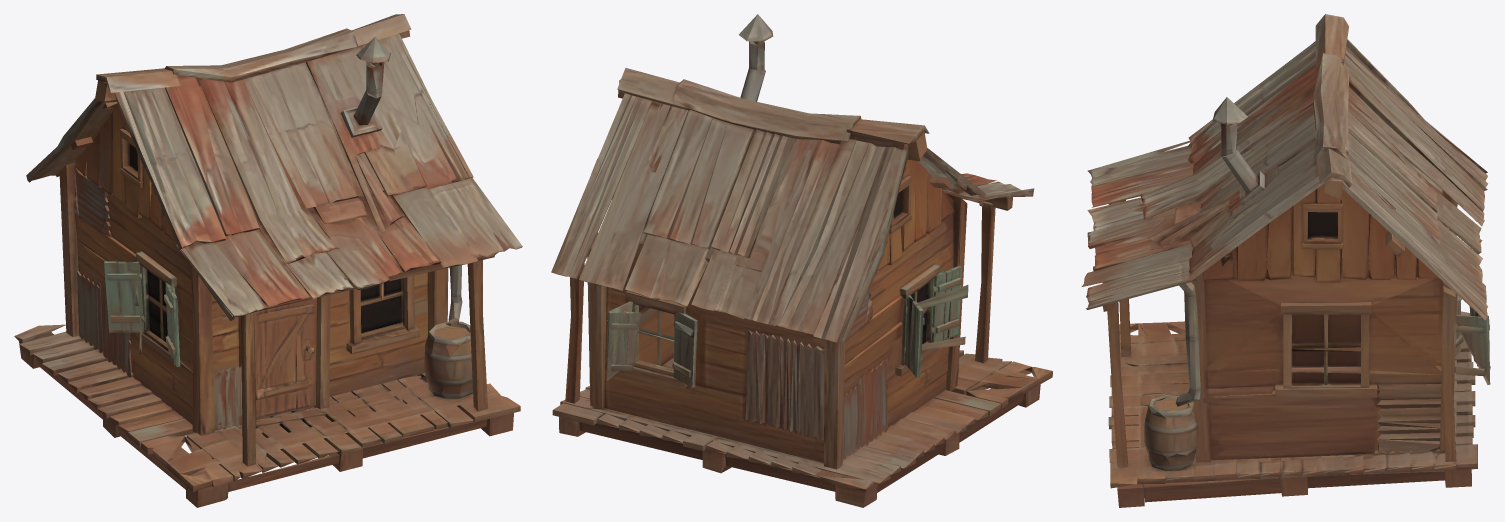
File: wl_shack.glb
3 views of the same model, side by side, from view 1: azimuth 30°, elevation 25°; view 2: azimuth 150°, elevation 25°; view 3: azimuth 270°, elevation 25° (orthographic).
Visible parts, largest first — view 1: wl_shack; view 2: wl_shack; view 3: wl_shack.
Part boxes in pixels (x1,y1,x2,y2): wl_shack: (14,14,522,507); wl_shack: (551,14,1052,507); wl_shack: (1081,14,1490,507).
Bounding box in the file's own units: 4.12 × 4.5 × 4.49.
Materials: 1 (1 with a texture image).
